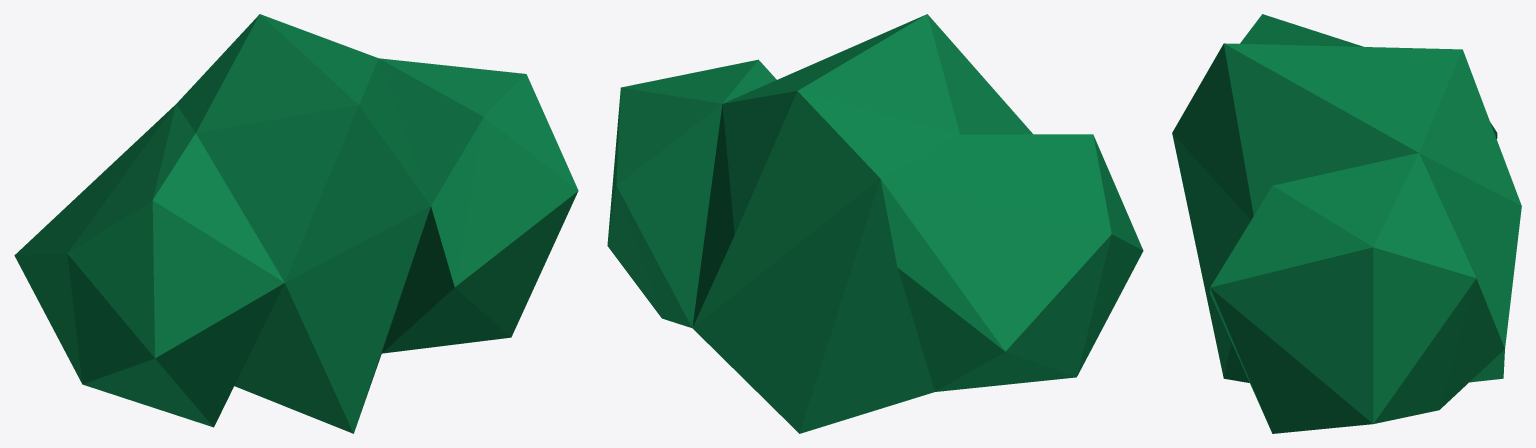
Rendered from Plant_bush.fbx.
3 renders of one model, left to right at view 1: azimuth 30°, elevation 25°; view 2: azimuth 150°, elevation 25°; view 3: azimuth 270°, elevation 25°, orthographic. The views are drawn at different scales.
Visible parts, largest first — view 1: Bush; view 2: Bush; view 3: Bush.
Part boxes in pixels (<box>): Bush: <box>14,14,578,433</box>; Bush: <box>607,14,1143,433</box>; Bush: <box>1172,14,1521,433</box>.
Bounding box in the file's own units: 377 × 241 × 224.
